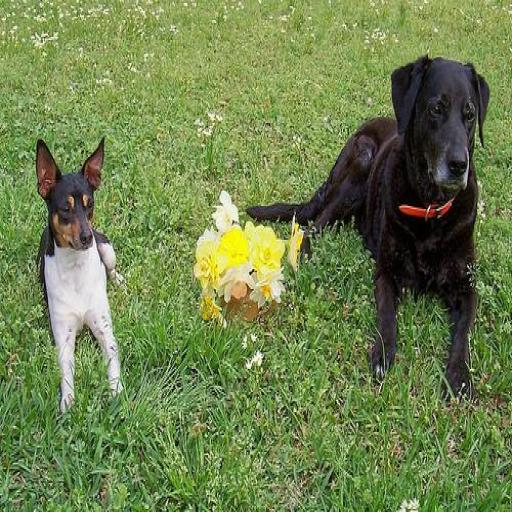dog_face: (393, 54, 485, 195), (33, 133, 104, 261)
